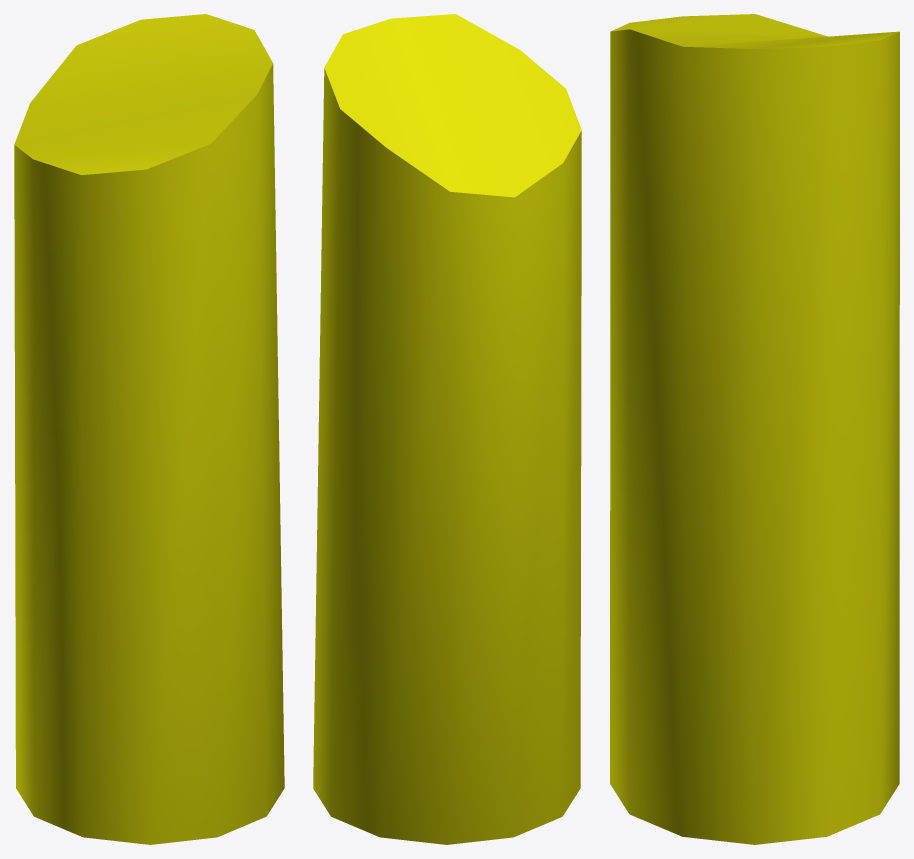
The model's file is B_Pillar_01_B_Break.fbx.
3 renders of one model, left to right at view 1: azimuth 30°, elevation 25°; view 2: azimuth 150°, elevation 25°; view 3: azimuth 270°, elevation 25°, orthographic. The views are drawn at different scales.
Visible parts, largest first — view 1: B_Pillar_01_B_Break; view 2: B_Pillar_01_B_Break; view 3: B_Pillar_01_B_Break.
Boxes of the visible parts, bbox=[...] form: B_Pillar_01_B_Break: bbox=[14, 14, 284, 844]; B_Pillar_01_B_Break: bbox=[313, 14, 581, 844]; B_Pillar_01_B_Break: bbox=[610, 14, 899, 844].
Size of the model in its own units: 102 by 306 by 102.
